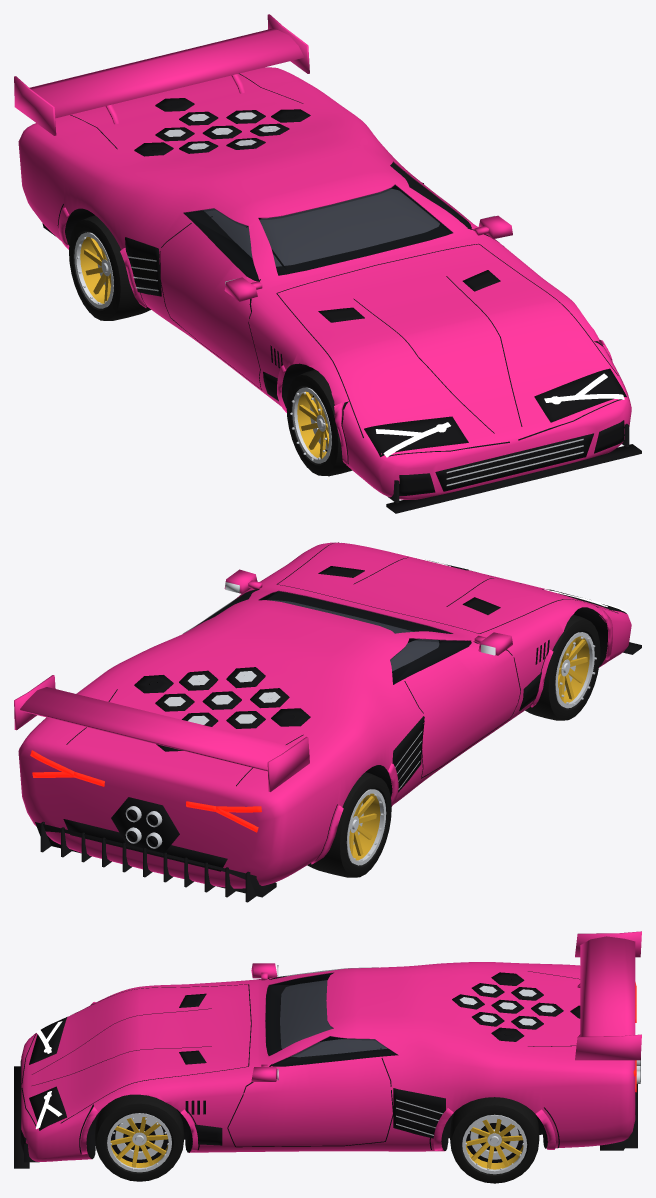
The model's file is lambo.glb.
3 views of the same model, one above another, from view 1: azimuth 30°, elevation 25°; view 2: azimuth 150°, elevation 25°; view 3: azimuth 270°, elevation 25° (orthographic). The views are drawn at different scales.
Visible parts, largest first — view 1: body, trim, glass, spoiler, interior, wheel_rl, wheel_fl, lights, mirrors; view 2: body, trim, spoiler, wheel_rl, wheel_fl, glass, lights, interior, mirrors; view 3: body, trim, spoiler, wheel_rr, wheel_fr, glass, interior, mirrors, lights.
Boxes of the visible parts, x1,y1,x2,y2 form: body: [18, 67, 631, 499]; trim: [42, 73, 641, 513]; glass: [183, 161, 471, 281]; spoiler: [14, 14, 309, 135]; interior: [203, 188, 439, 266]; wheel_rl: [69, 215, 150, 320]; wheel_fl: [286, 369, 352, 476]; lights: [375, 373, 624, 457]; mirrors: [224, 215, 512, 301]; body: [18, 542, 631, 888]; trim: [35, 542, 641, 902]; spoiler: [14, 675, 309, 791]; wheel_rl: [307, 772, 391, 877]; wheel_fl: [525, 614, 600, 720]; glass: [183, 589, 470, 684]; lights: [30, 552, 624, 832]; interior: [270, 600, 439, 671]; mirrors: [224, 569, 512, 655]; body: [21, 962, 635, 1161]; trim: [14, 965, 640, 1168]; spoiler: [575, 931, 641, 1060]; wheel_rr: [450, 1097, 539, 1183]; wheel_fr: [95, 1094, 184, 1181]; glass: [265, 967, 397, 1066]; interior: [280, 980, 387, 1057]; mirrors: [251, 963, 277, 1081]; lights: [35, 982, 636, 1129].
Size of the model in its own units: 2.02 by 1.23 by 4.77.
